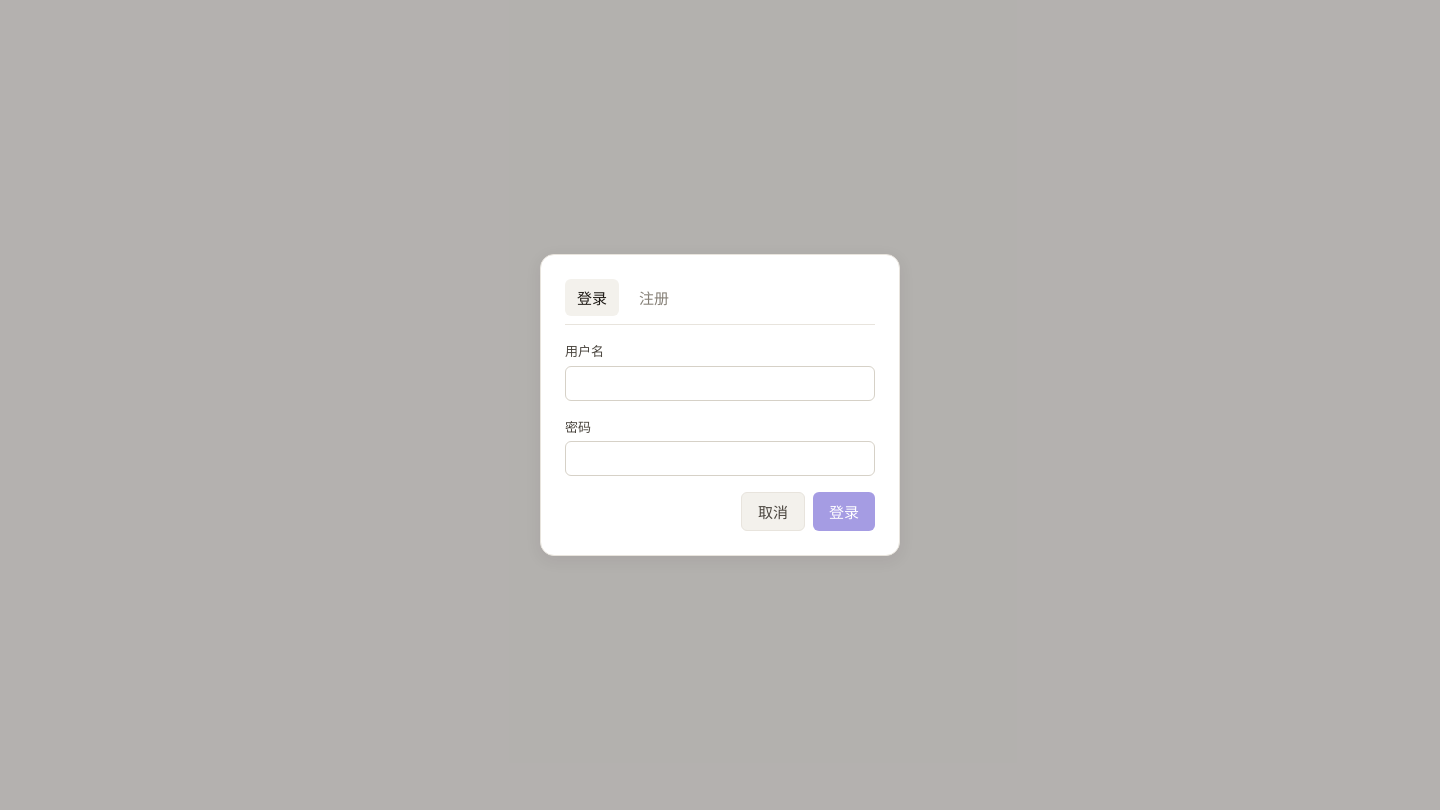
Test: AuthDialog › 后端 detail 错误显示给用户
In the field with test id "auth-username": (720, 383) [565,366,875,400], type "alice"
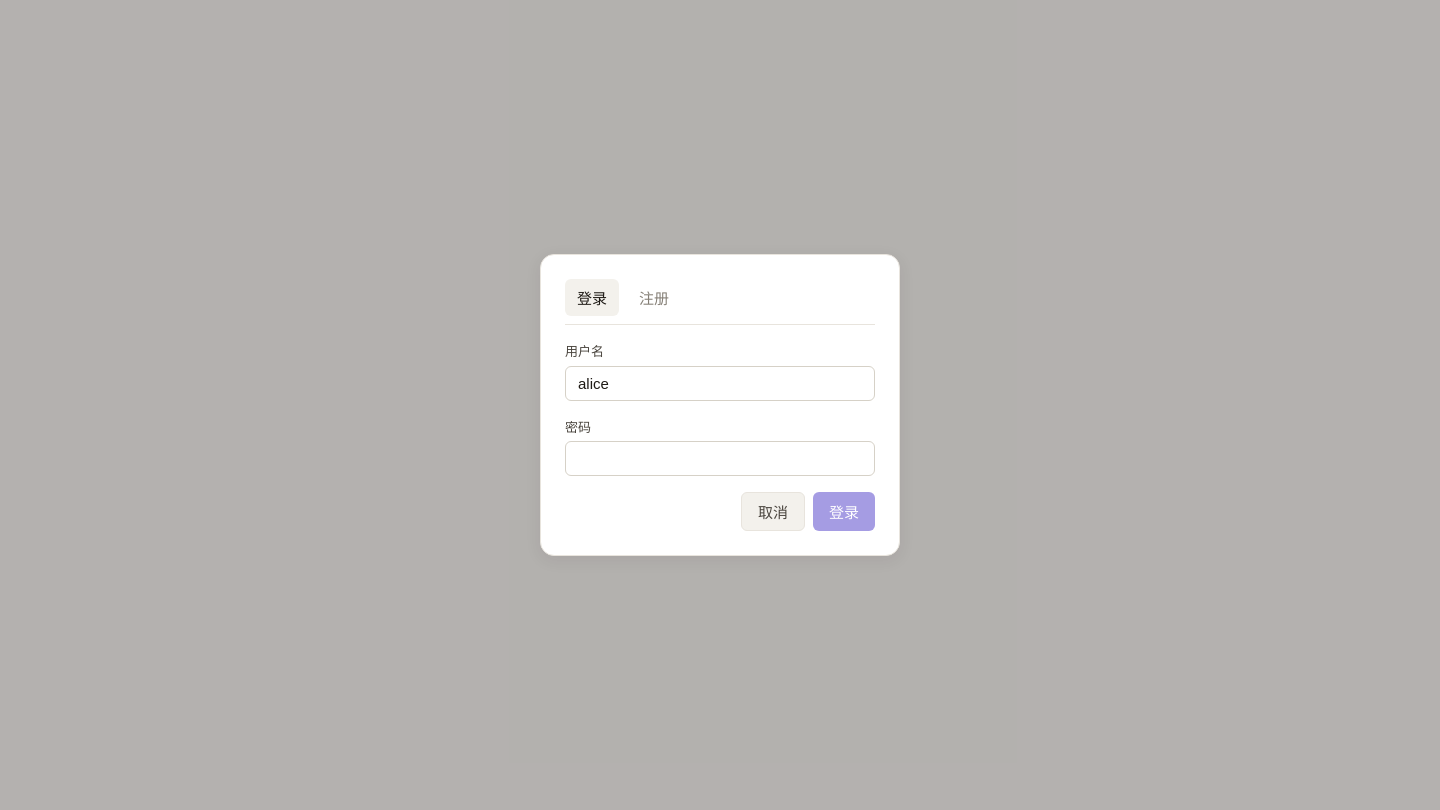
In the password field with test id "auth-password": (720, 459) [565,441,875,476], type "wrong"
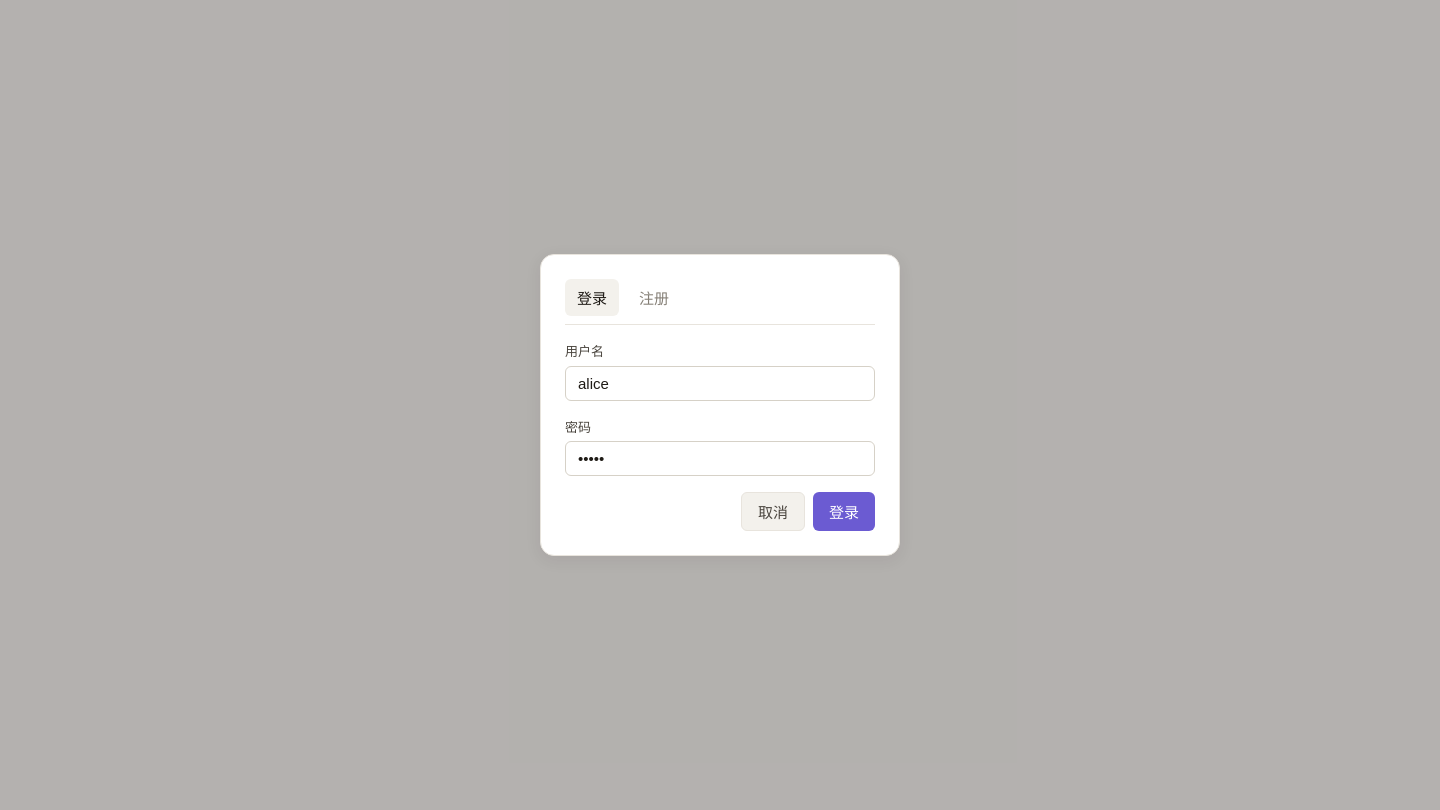
Submit the dialog, box [540,254,900,556]
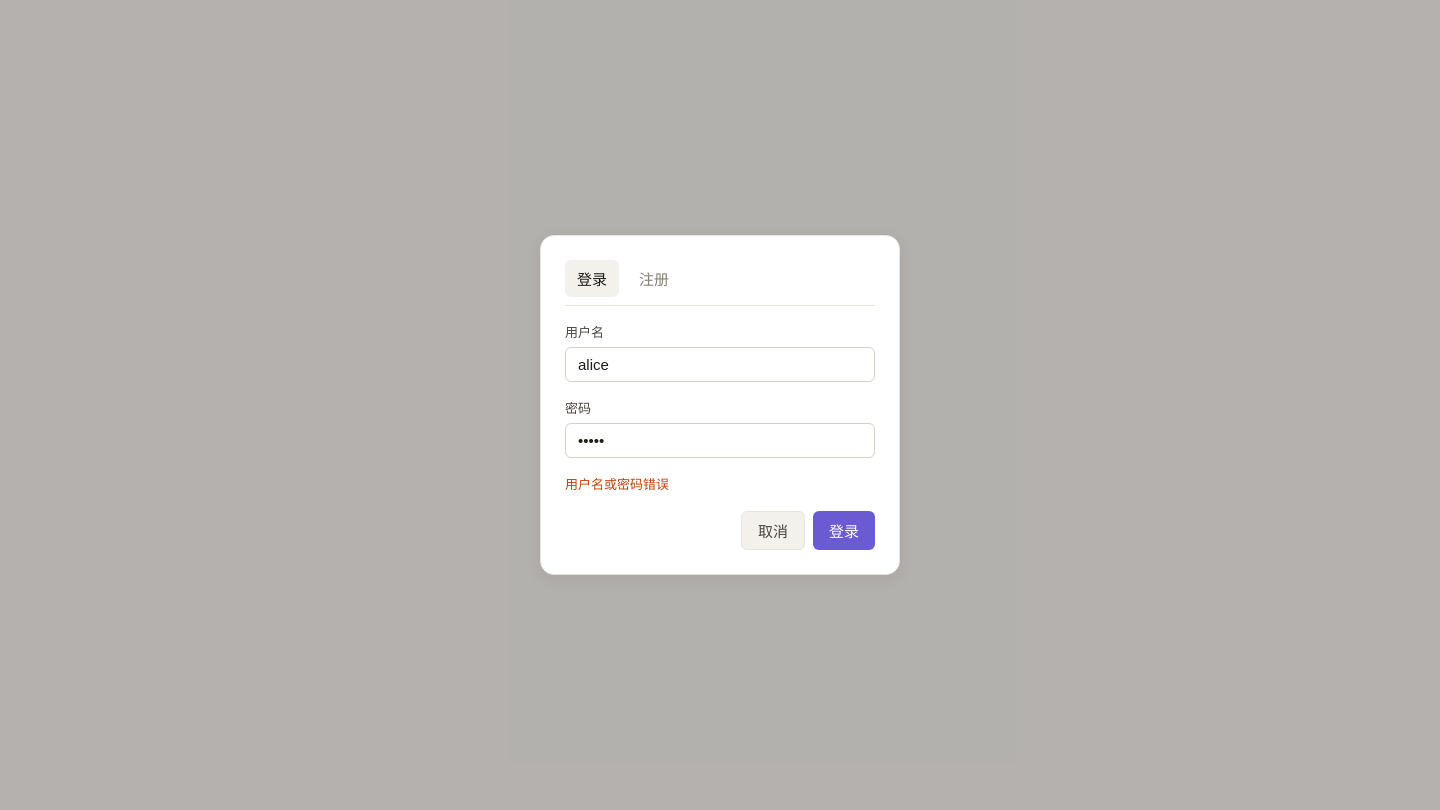
Expected: the text with test id "auth-error" reads "用户名或密码错误", [565,476,669,492]
